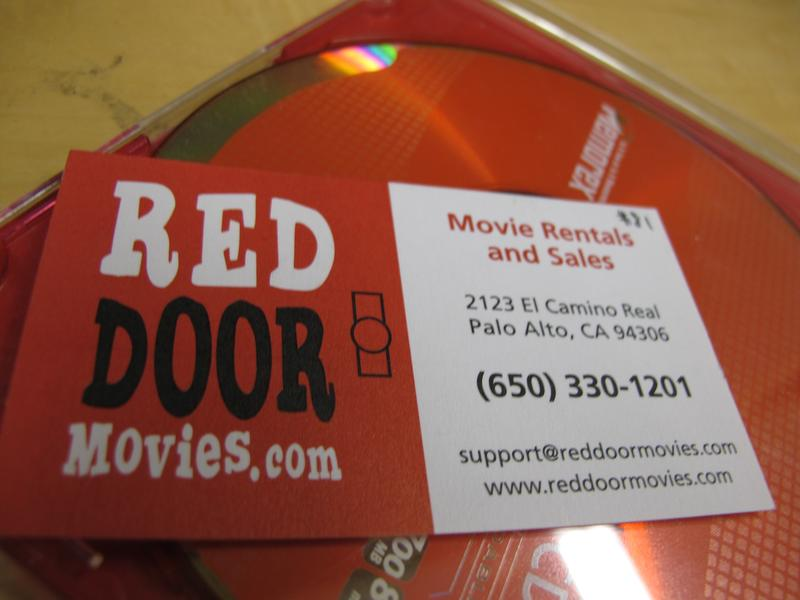card: (4, 149, 783, 544)
